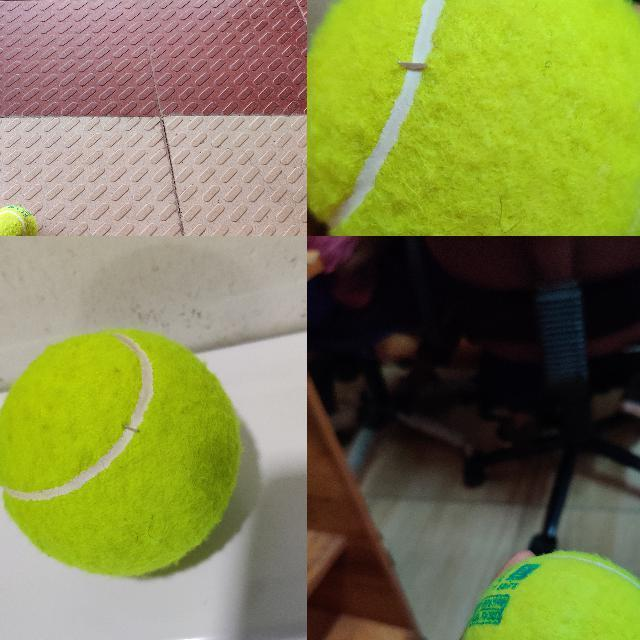tennis-ball: (307, 0, 639, 235), (0, 326, 242, 578), (460, 549, 639, 639), (0, 205, 38, 235)
